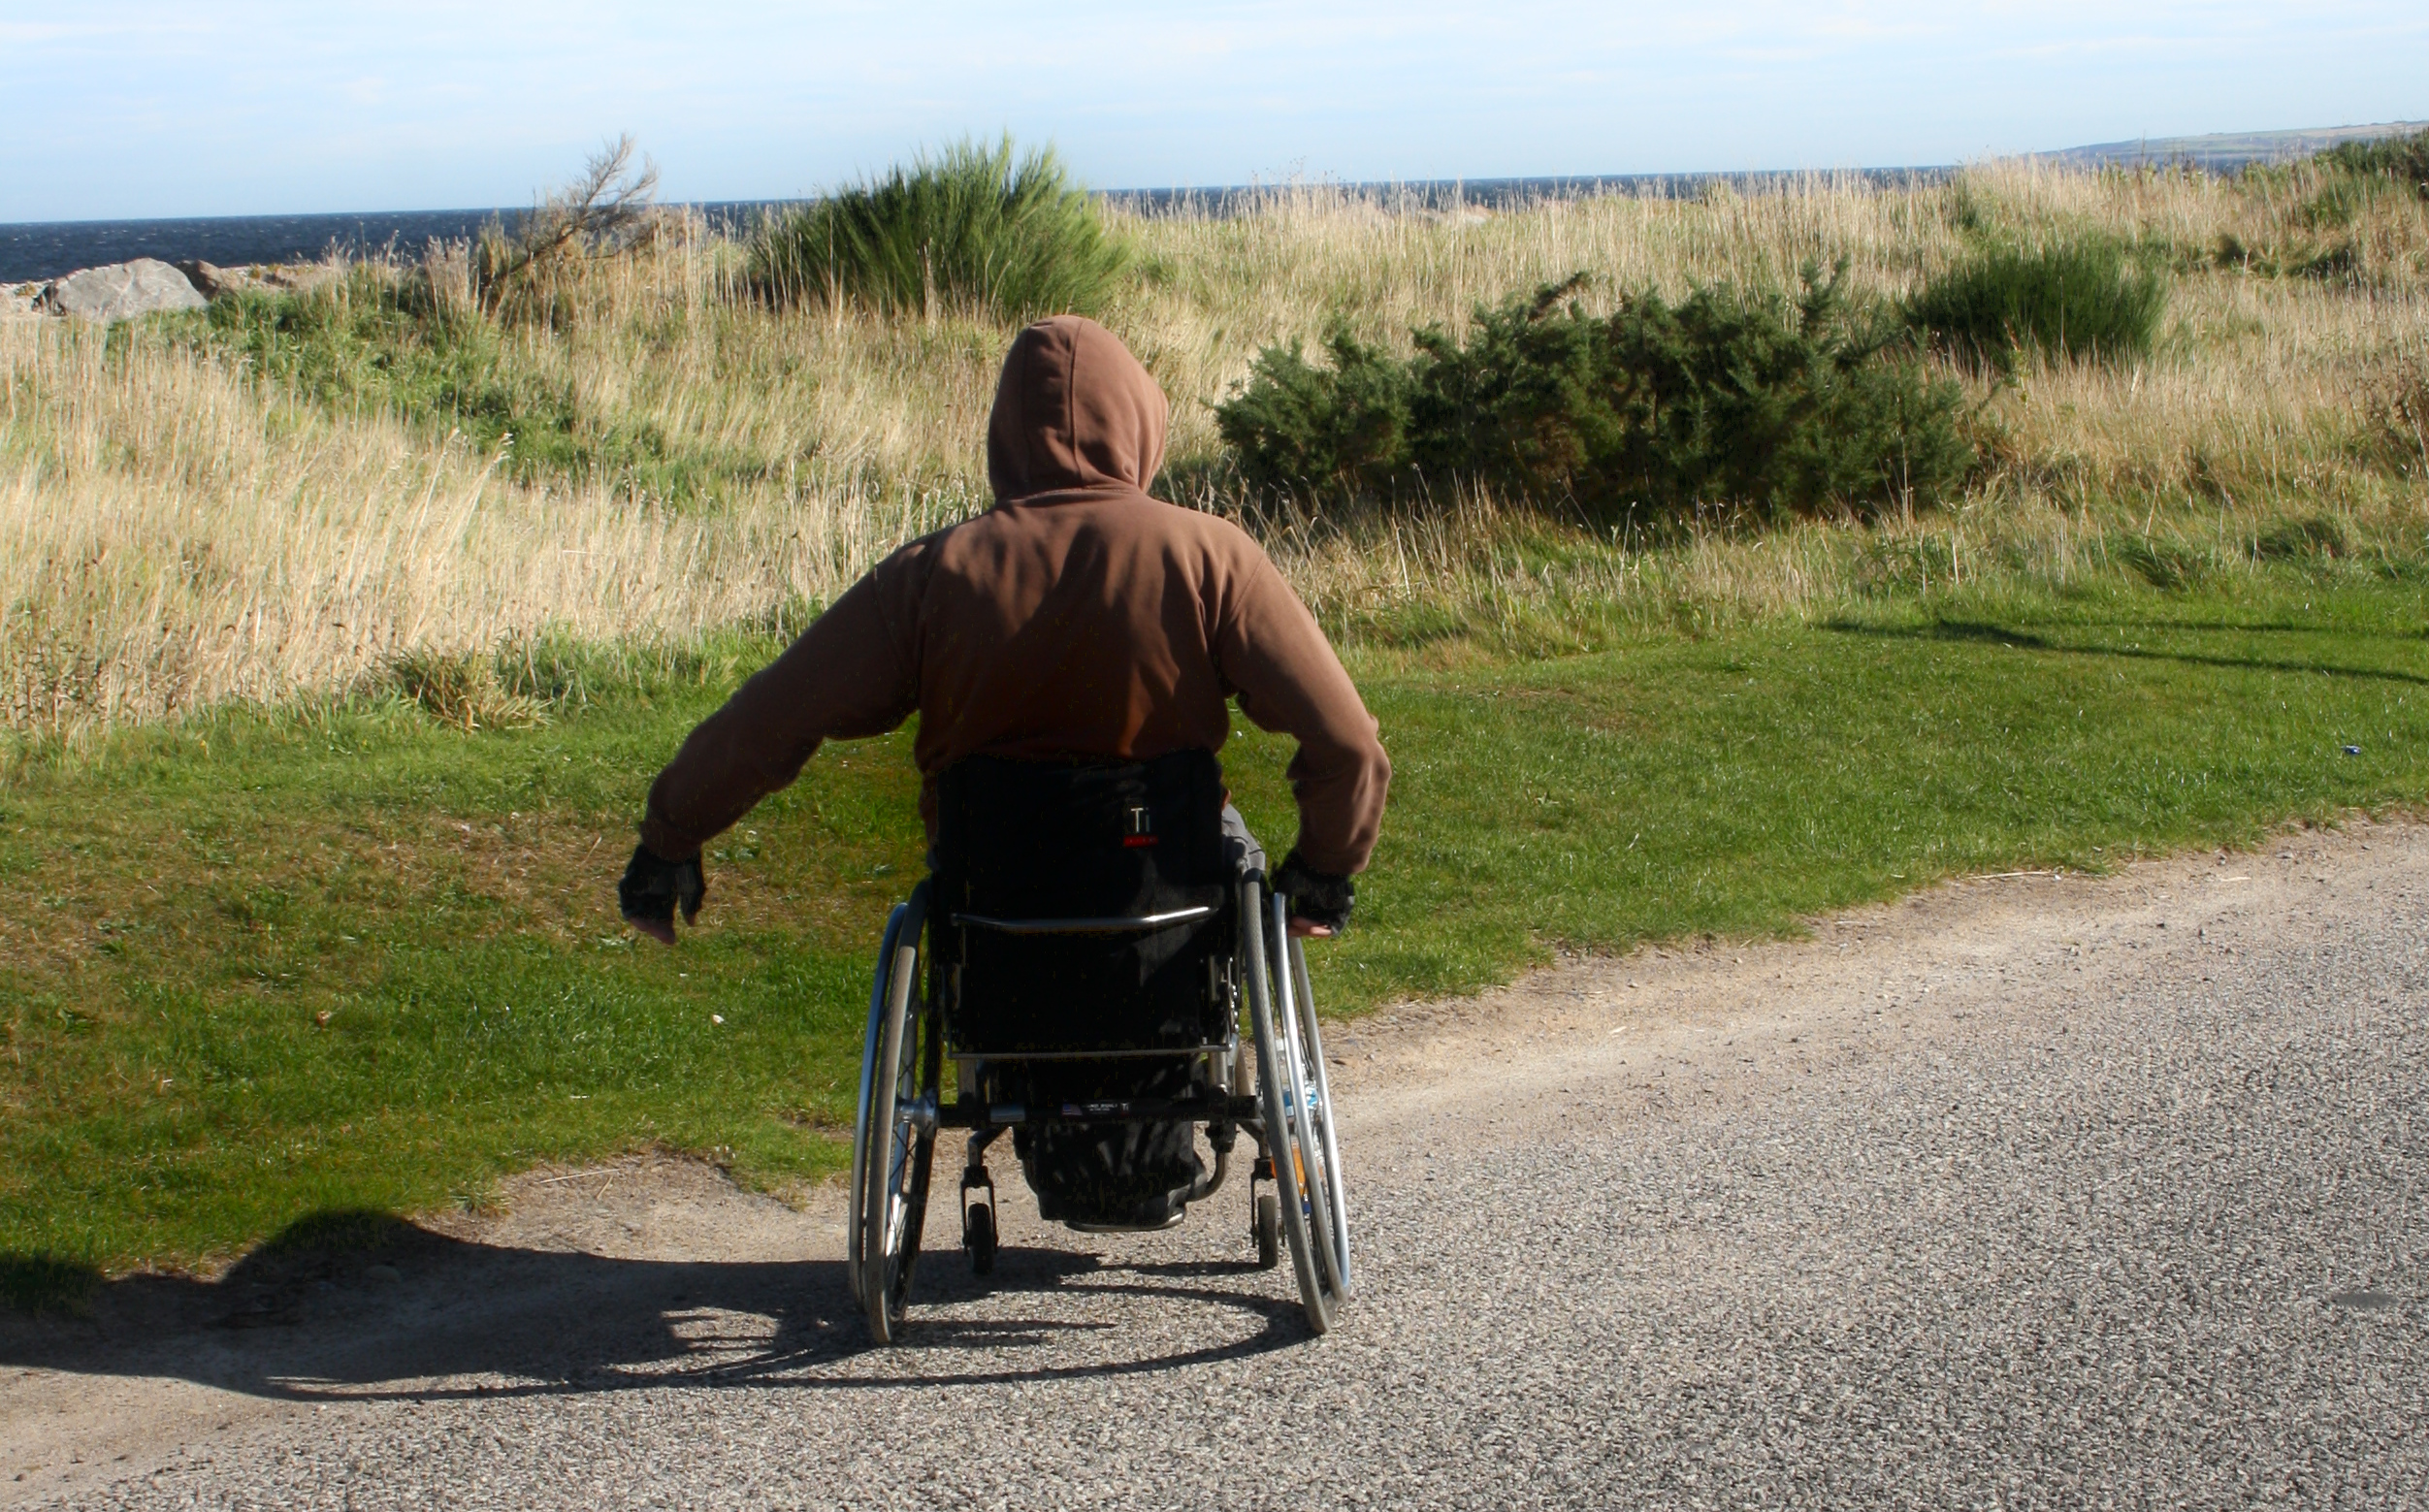wheelchair: (619, 312, 1390, 1336)
